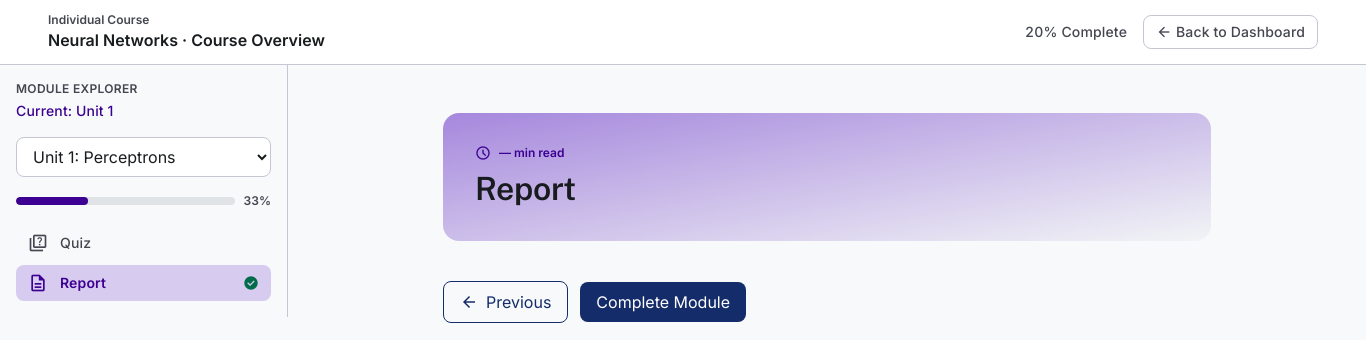
Test: WorkspaceLayout › switches modules via the switcher
Check: the heading "Report" is shown, box [475,170,576,207]
Select "Unit 2: Backprop" in the dropdown with test id "module-switcher" at (144, 157), box [16,137,271,177]
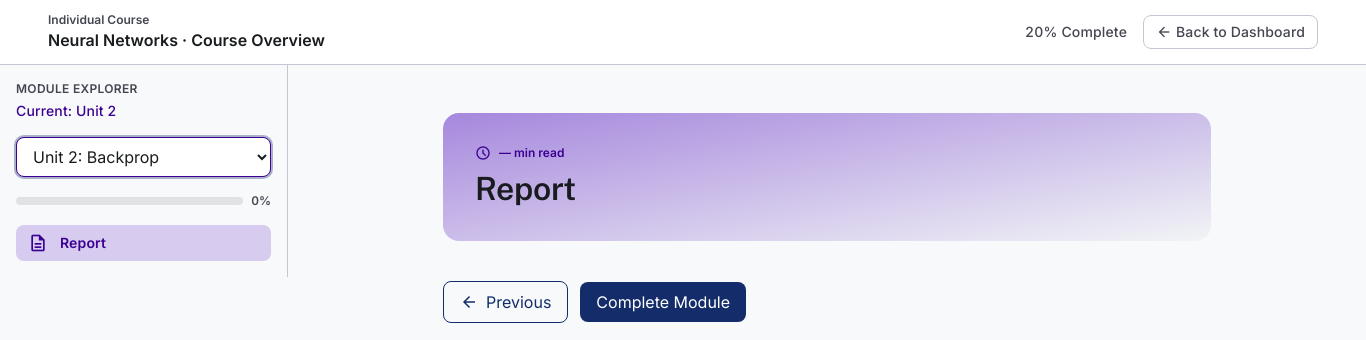
Check: the text "Current: Unit 2" is shown, box [16,102,116,119]
